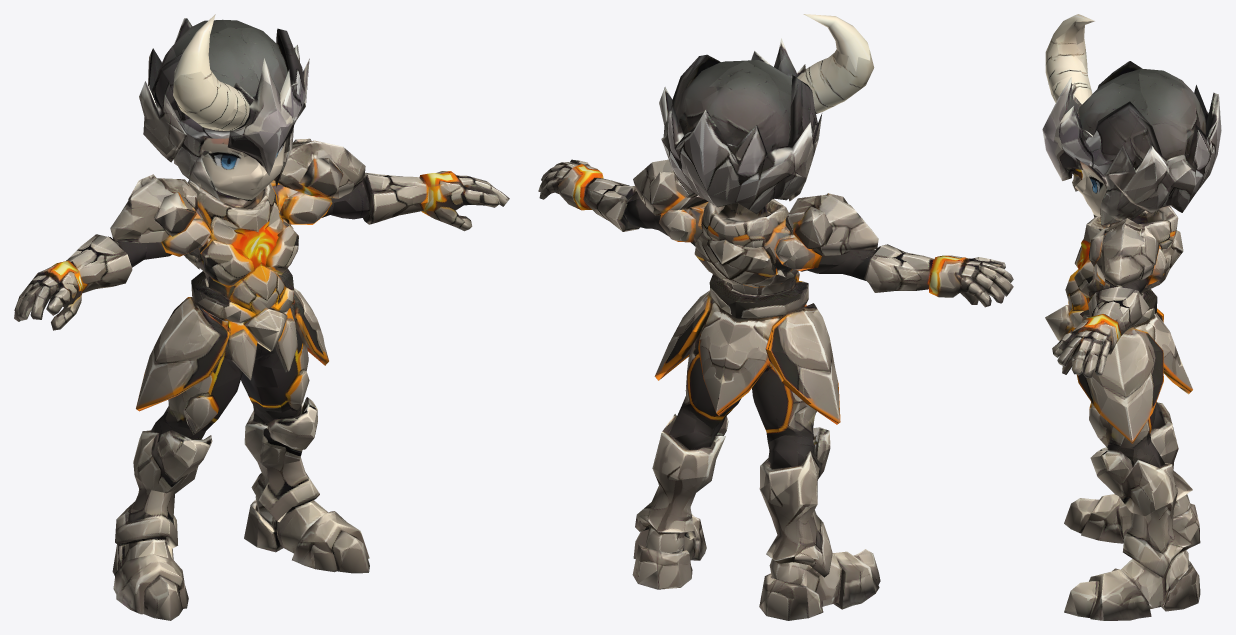
File: crag_meshy.glb
3 views of the same model, side by side, from view 1: azimuth 30°, elevation 25°; view 2: azimuth 150°, elevation 25°; view 3: azimuth 270°, elevation 25° (orthographic). The views are drawn at different scales.
Bounding box in the file's own units: 1.76 × 2 × 0.6121.
Materials: 1 (1 with a texture image).
